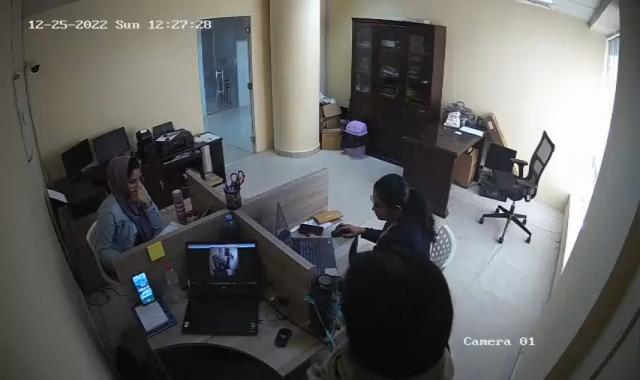no_hairnet: (338, 247, 454, 371), (371, 176, 417, 224), (103, 154, 142, 186)
